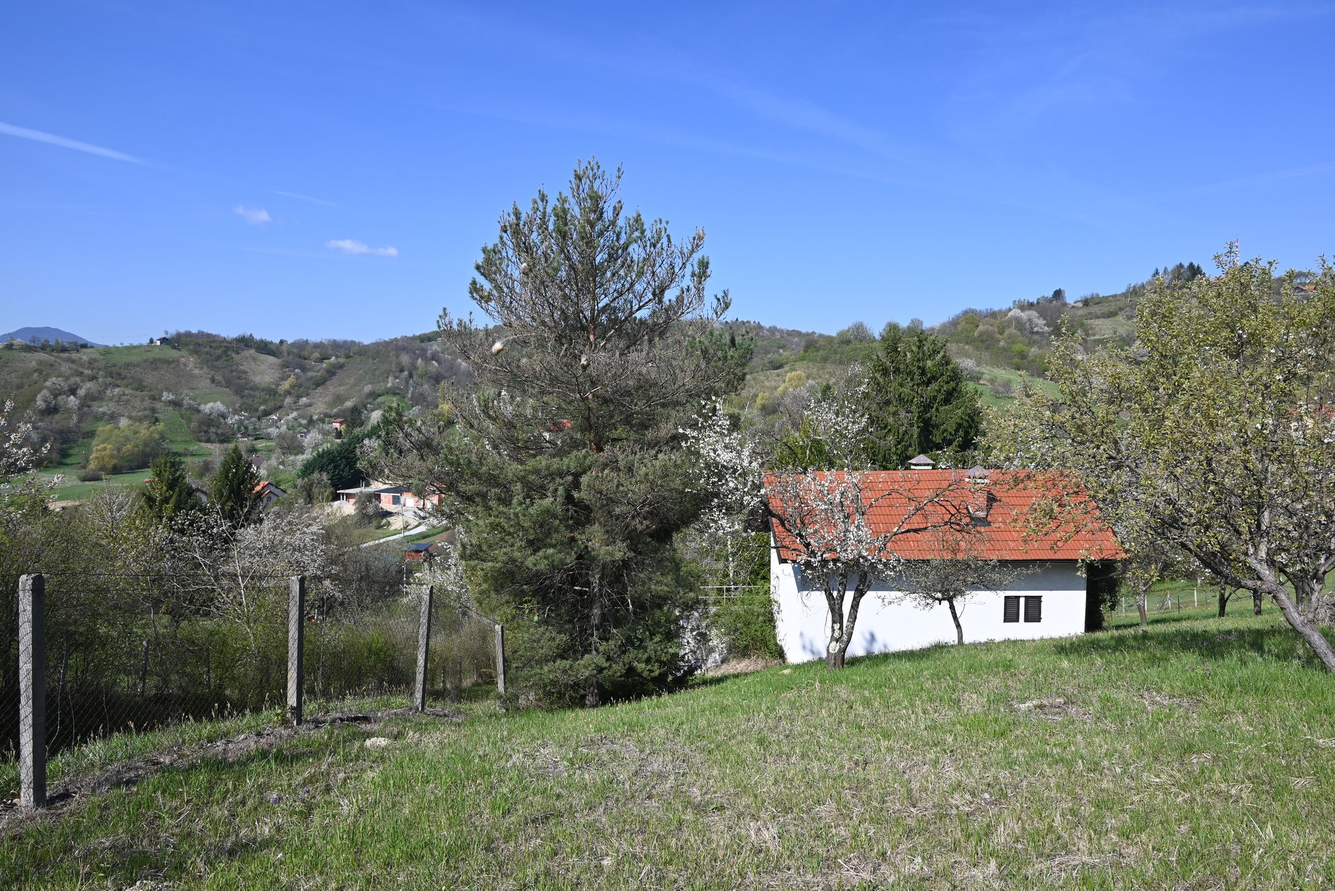thaumatopoea pityocampa jajno gnijezdo: (489, 341, 504, 358), (517, 262, 531, 276), (696, 227, 705, 245)
